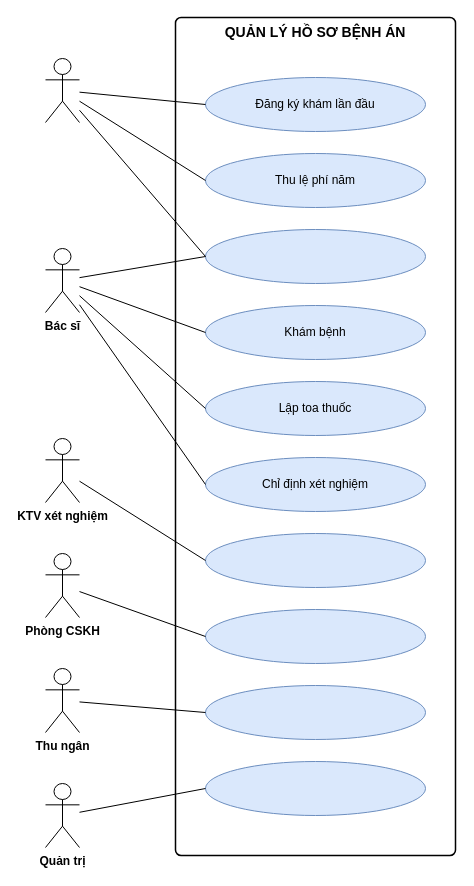
Some shapes in this 474 by 886 pixel diagram are drawn without their labels. The centre of each missing label's shape, as x and y in pixels:
"Nhập kết quả xét nghiệm" goes at pixel 315 560.
"NV tiếp nhận" goes at pixel 62 90.
"Quản lý danh mục" goes at pixel 315 788.
"Thanh toán viện phí – xuất viện" goes at pixel 315 712.
"Tra cứu hồ sơ bệnh án" goes at pixel 315 256.
"Đặt lịch khám định kỳ" goes at pixel 315 636.
